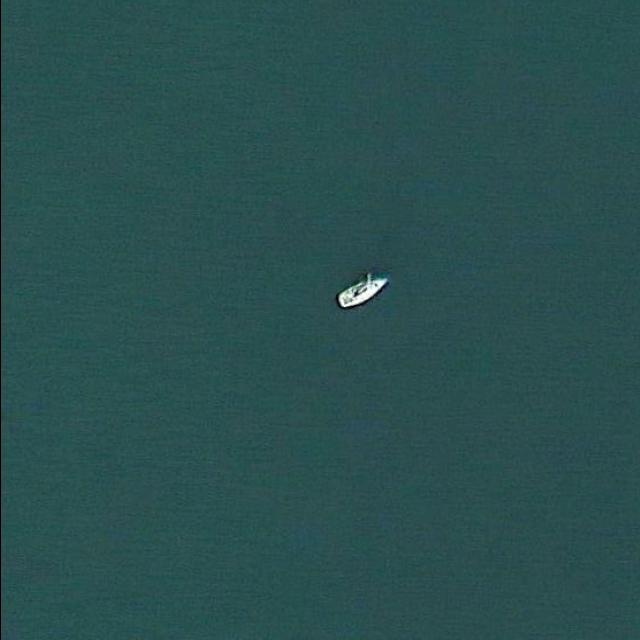ship: (336, 276, 392, 310)
